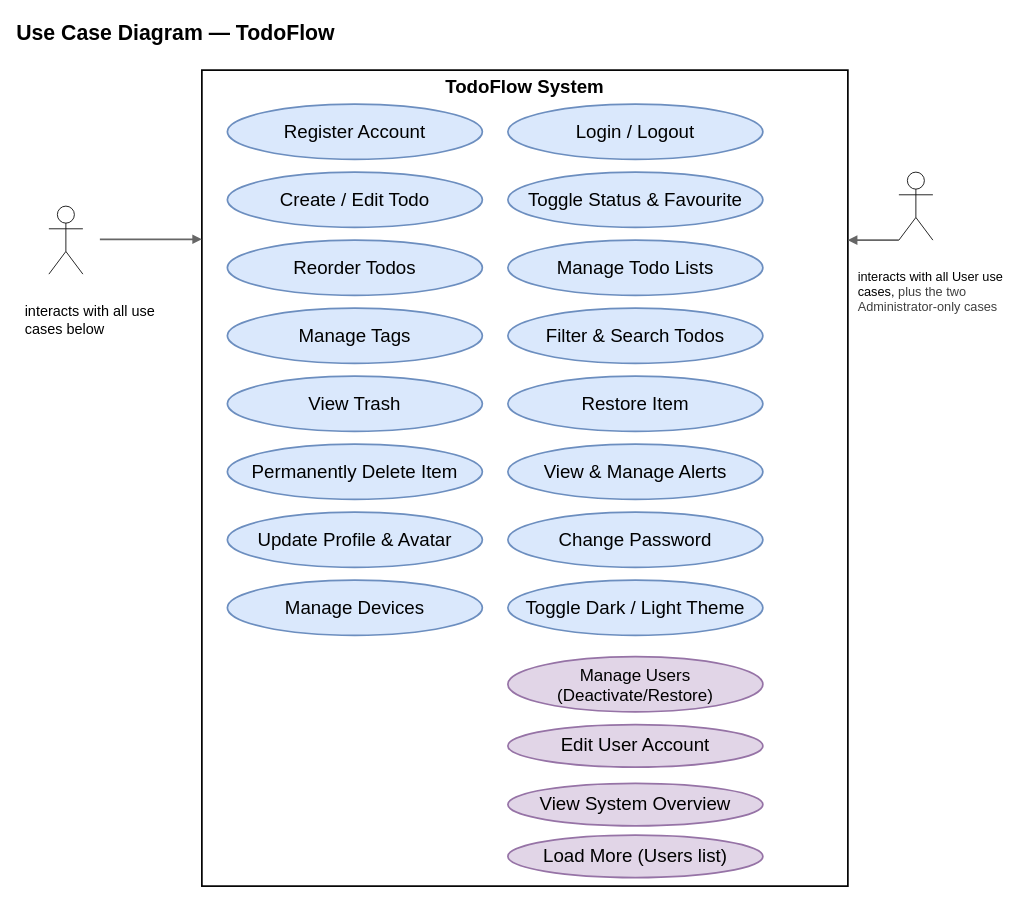
The diagram is 1032 pixels wide and 901 high, and some of its shapes have lost their labels. Here are the shapes that lost their labels. From the top down, the centre of each, then its label:
At [915,205]: "Administrator".
At [65,239]: "User".
